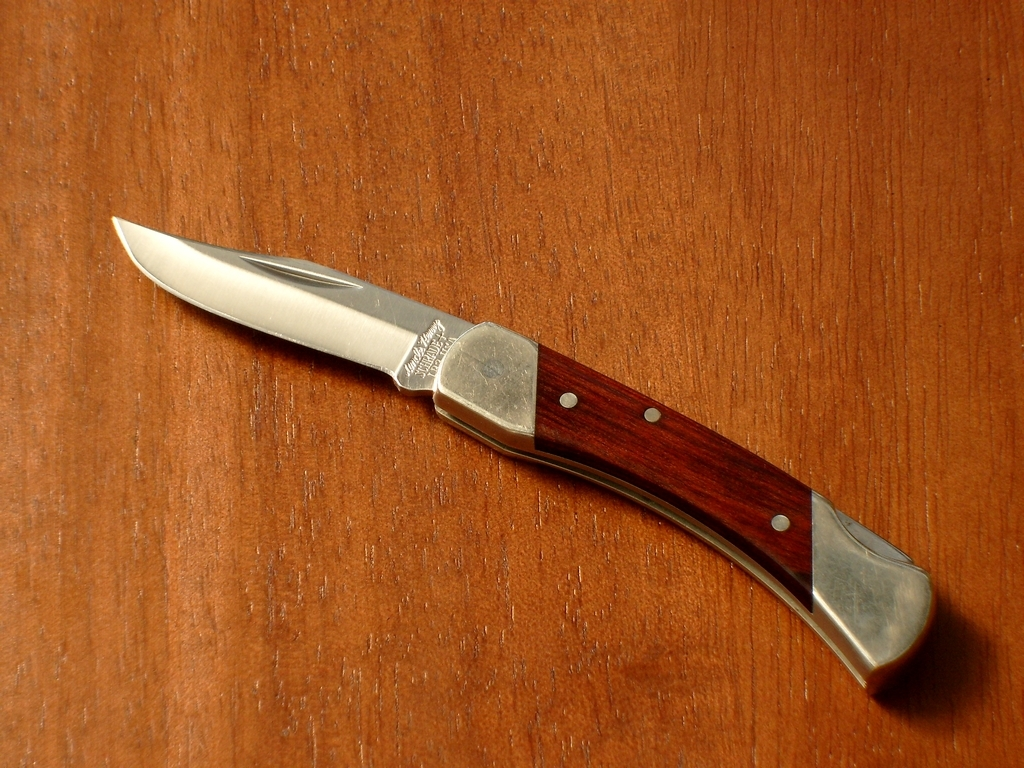knife: (111, 215, 938, 697)
